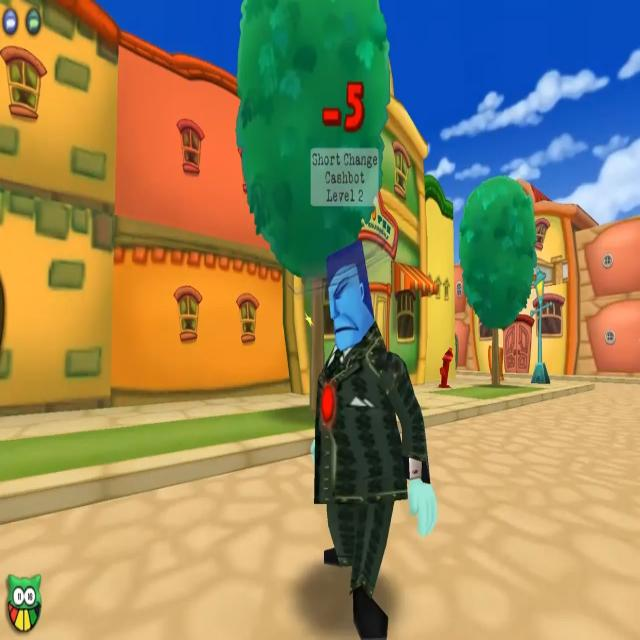shortchange: (310, 147, 438, 640)
